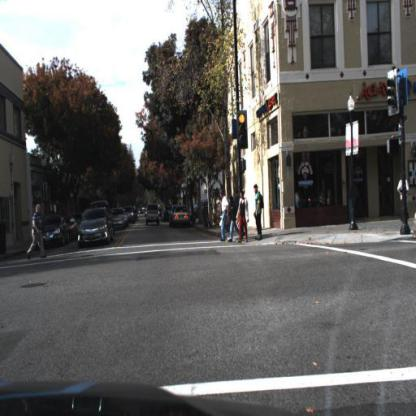car: (32, 208, 72, 253), (78, 205, 114, 246), (36, 215, 68, 250), (169, 203, 193, 231), (172, 205, 192, 229), (114, 210, 126, 231)
pedestrian: (28, 202, 49, 262), (397, 173, 411, 223), (253, 183, 265, 237), (33, 202, 44, 257), (220, 189, 231, 241), (231, 197, 240, 247), (241, 191, 249, 243)
trafficLight: (238, 111, 250, 148)
